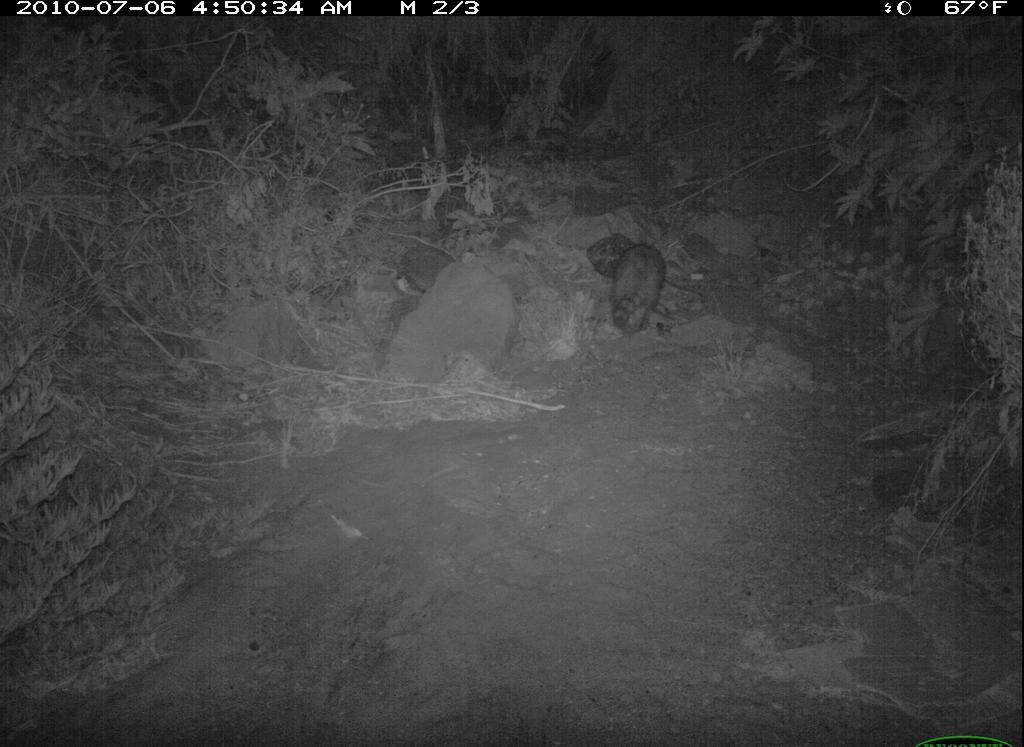raccoon: (601, 231, 674, 354)
